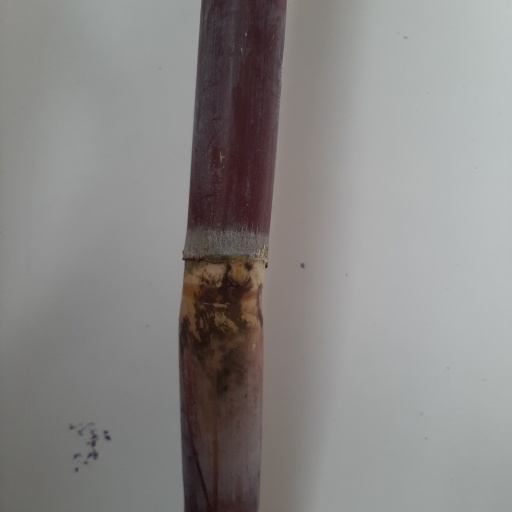Bud: (224, 262, 248, 289)
